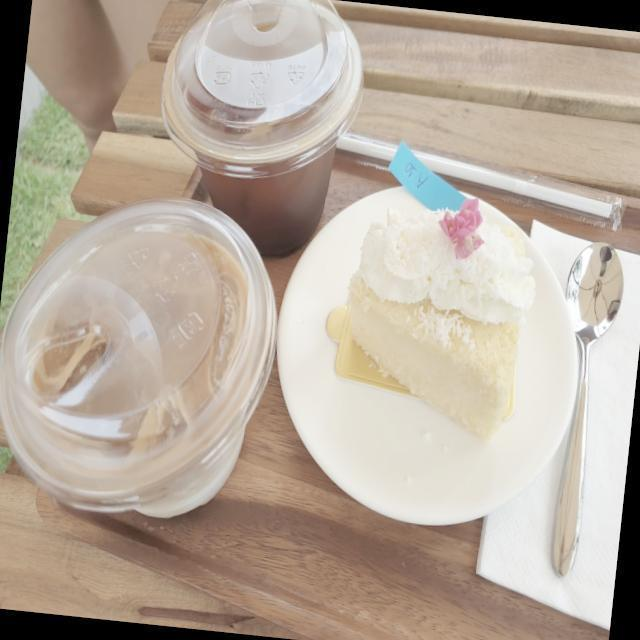cup: (8, 196, 276, 539), (146, 0, 372, 242)
